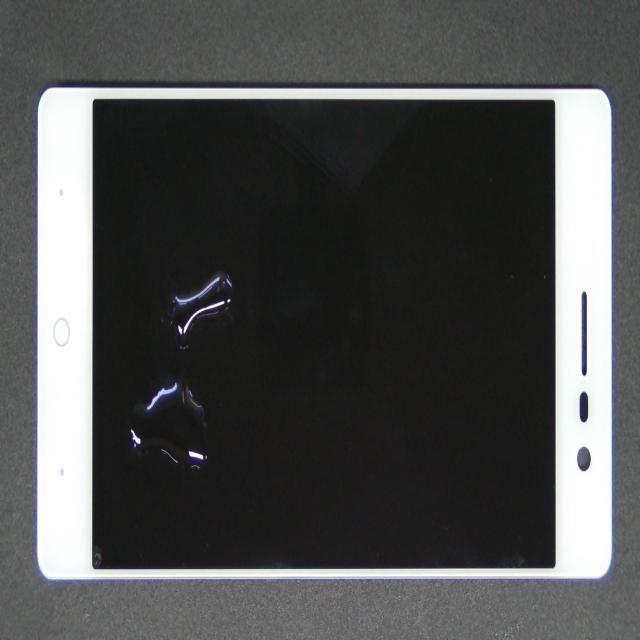oil: (115, 213, 287, 589), (127, 137, 344, 396)
